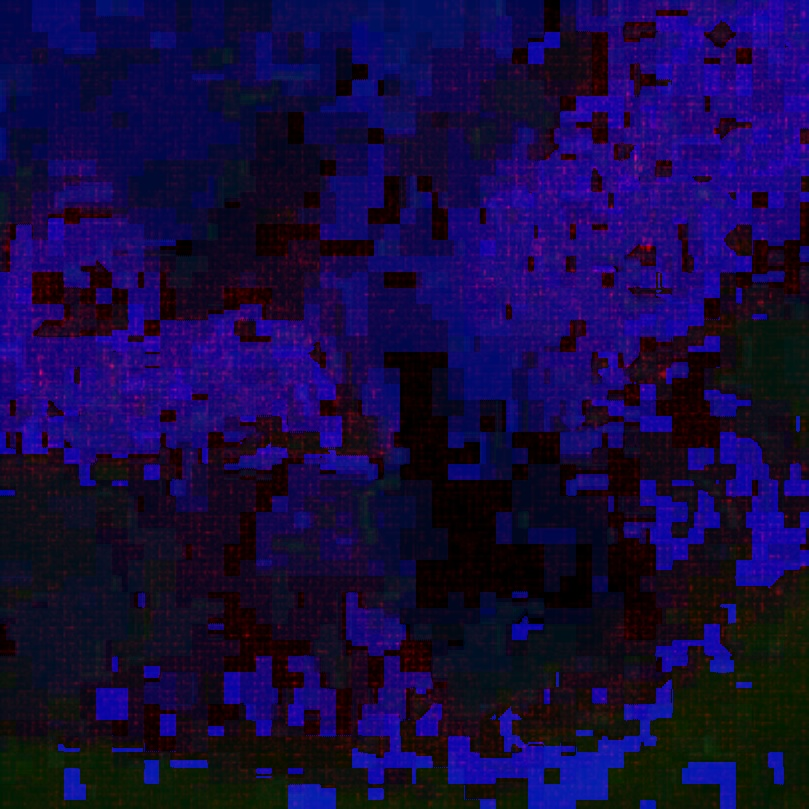rip_current: (211, 153, 695, 653)
